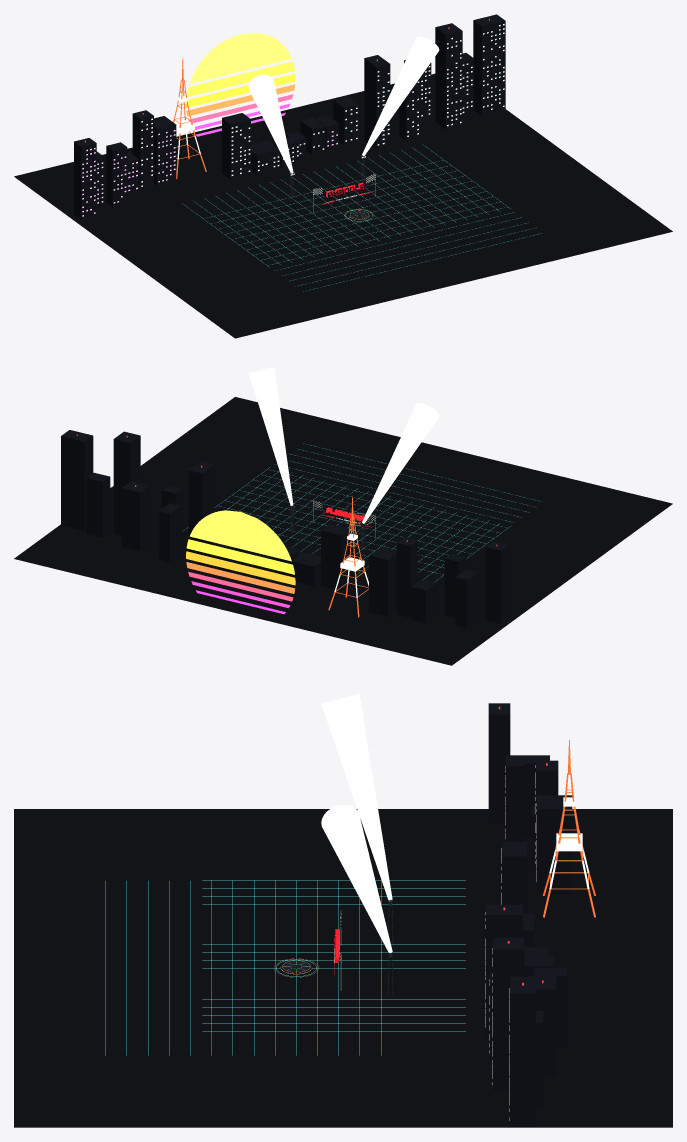
Rendered from title.glb.
The picture shows the model from 3 angles, top to bottom: view 1: azimuth 30°, elevation 25°; view 2: azimuth 150°, elevation 25°; view 3: azimuth 270°, elevation 25°; orthographic projection. The views are drawn at different scales.
Parts seen in each view (by area): view 1: Floor, City, Sun, Grid, BeamR, Windows, BeamL, TokyoTower; view 2: Floor, City, Sun, BeamR, BeamL, Grid, TokyoTower; view 3: Floor, City, Grid, BeamL, BeamR, TokyoTower.
Boxes of the visible parts, x1,y1,x2,y2 form: Floor: [14, 73, 672, 338]; City: [74, 14, 505, 220]; Sun: [186, 33, 295, 136]; Grid: [182, 146, 538, 291]; BeamR: [362, 36, 439, 155]; Windows: [82, 18, 504, 216]; BeamL: [248, 74, 293, 173]; TokyoTower: [173, 57, 206, 179]; Floor: [14, 397, 672, 665]; City: [61, 430, 508, 628]; Sun: [186, 510, 295, 614]; BeamR: [248, 367, 293, 505]; BeamL: [362, 403, 439, 523]; Grid: [183, 443, 539, 581]; TokyoTower: [328, 496, 368, 617]; Floor: [14, 809, 672, 1127]; City: [485, 703, 572, 1126]; Grid: [105, 880, 465, 1055]; BeamL: [321, 694, 392, 900]; BeamR: [321, 804, 392, 952]; TokyoTower: [543, 740, 595, 917].
Size of the model in its own units: 160 by 50.95 by 140.
